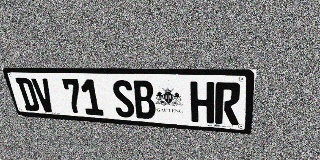1: (79, 79, 104, 116)
7: (60, 79, 86, 115)
B: (132, 80, 156, 119)
D: (15, 78, 41, 111)
H: (190, 82, 214, 123)
R: (215, 82, 241, 125)
S: (111, 80, 136, 118)
V: (31, 78, 56, 113)
